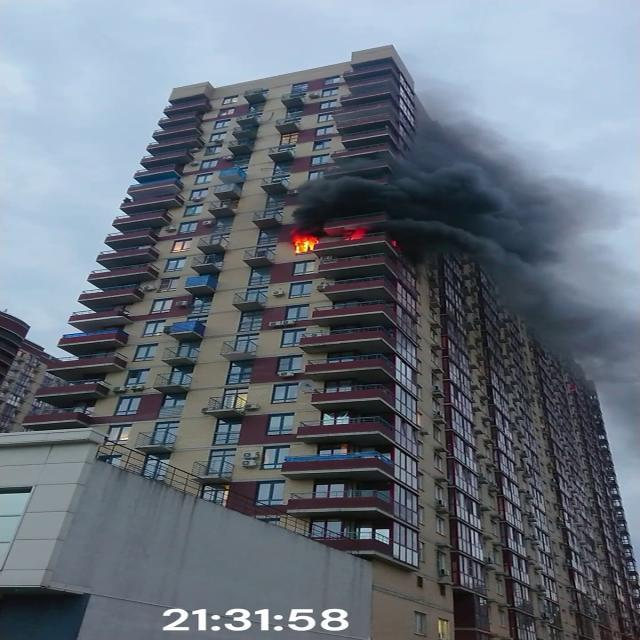Fire: (287, 230, 322, 254)
Smoke: (279, 120, 592, 237), (468, 198, 640, 381)
